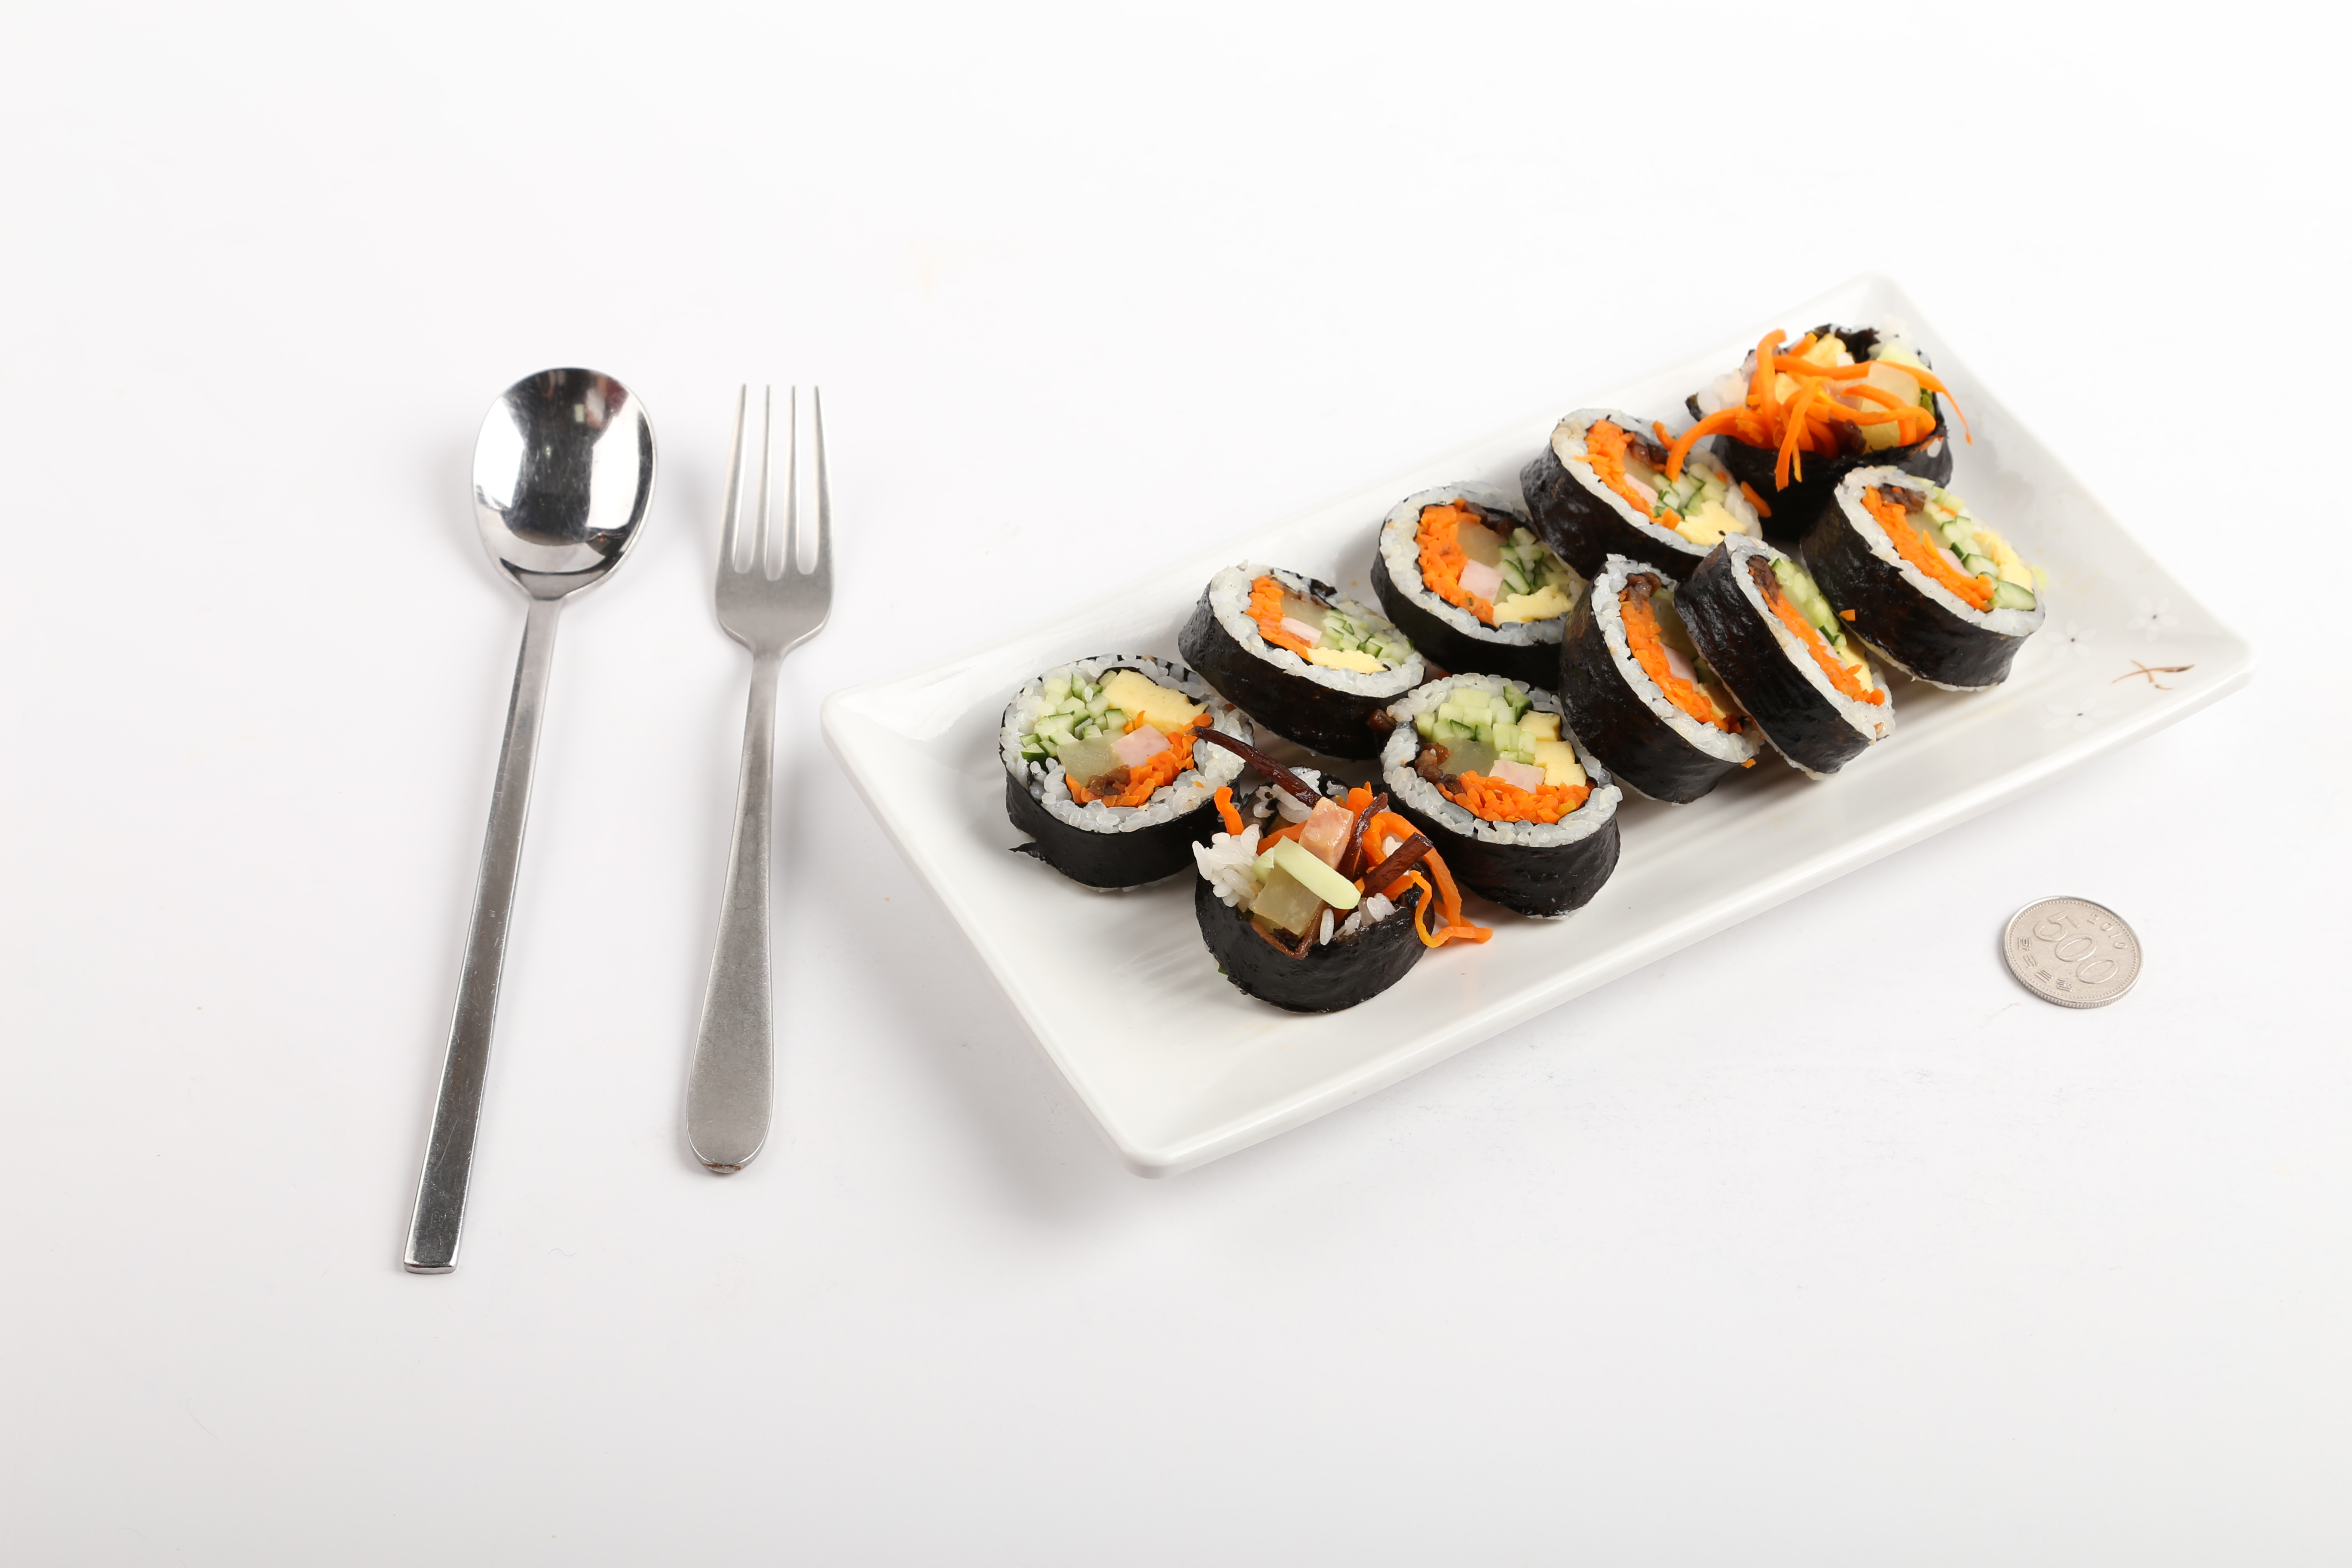dish: (826, 276, 2264, 1178)
ref_coin: (1995, 894, 2147, 1013)
ref_fork: (703, 374, 838, 681)
ref_spoon: (469, 360, 658, 639)
김밥: (997, 317, 2042, 1020)
